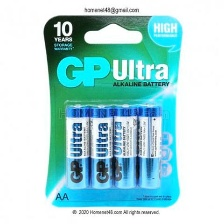battery: (85, 103, 116, 190), (134, 102, 163, 191), (111, 102, 139, 190), (63, 103, 90, 191)
book: (39, 13, 184, 213)
